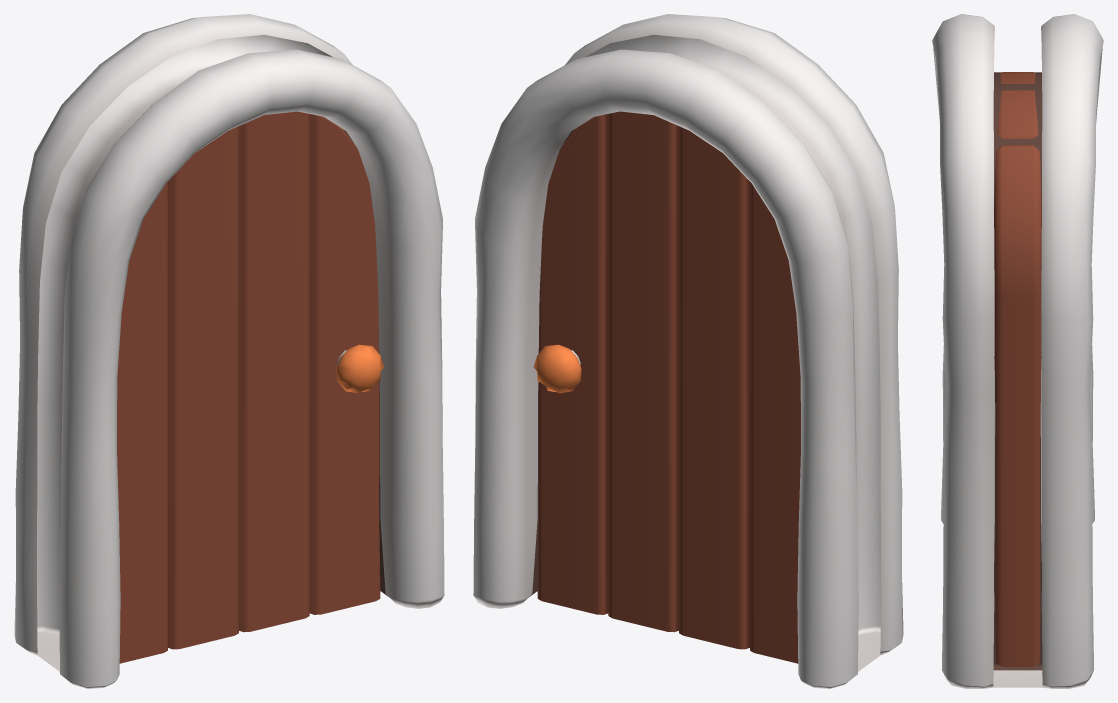
File: Doorway_001.fbx
3 views of the same model, side by side, from view 1: azimuth 30°, elevation 25°; view 2: azimuth 150°, elevation 25°; view 3: azimuth 270°, elevation 25° (orthographic). The views are drawn at different scales.
Visible parts, largest first — view 1: Door_001, Doorway_001; view 2: Door_001, Doorway_001; view 3: Doorway_001, Door_001.
Boxes of the visible parts, <box> form: Door_001: <box>117,111,384,663</box>; Doorway_001: <box>14,14,444,688</box>; Door_001: <box>533,111,800,663</box>; Doorway_001: <box>473,14,903,688</box>; Doorway_001: <box>932,14,1103,688</box>; Door_001: <box>994,72,1041,666</box>.
Size of the model in its own units: 1.63 by 2.44 by 0.6651.
